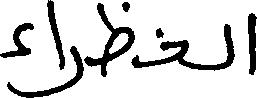X: (0, 18, 31, 97), (103, 0, 133, 81), (47, 0, 63, 97), (162, 27, 187, 71), (65, 41, 82, 93), (249, 0, 256, 97), (224, 19, 232, 73)
